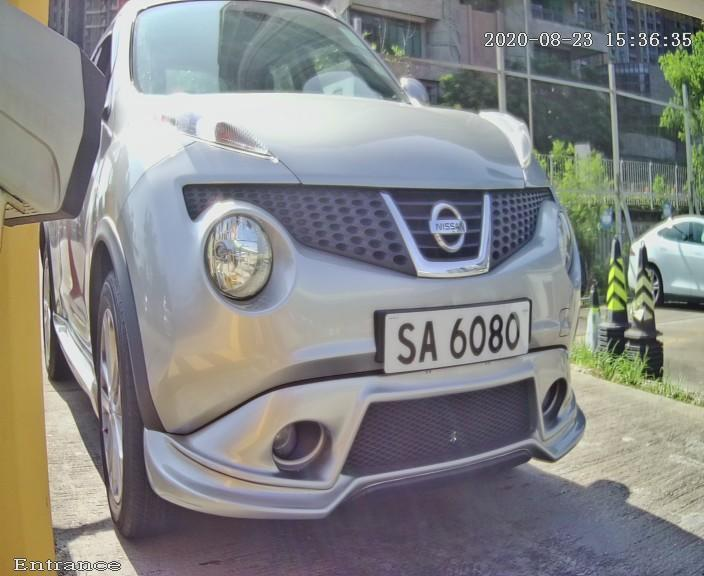Car: (19, 1, 639, 576)
License Plate: (356, 257, 543, 395)
